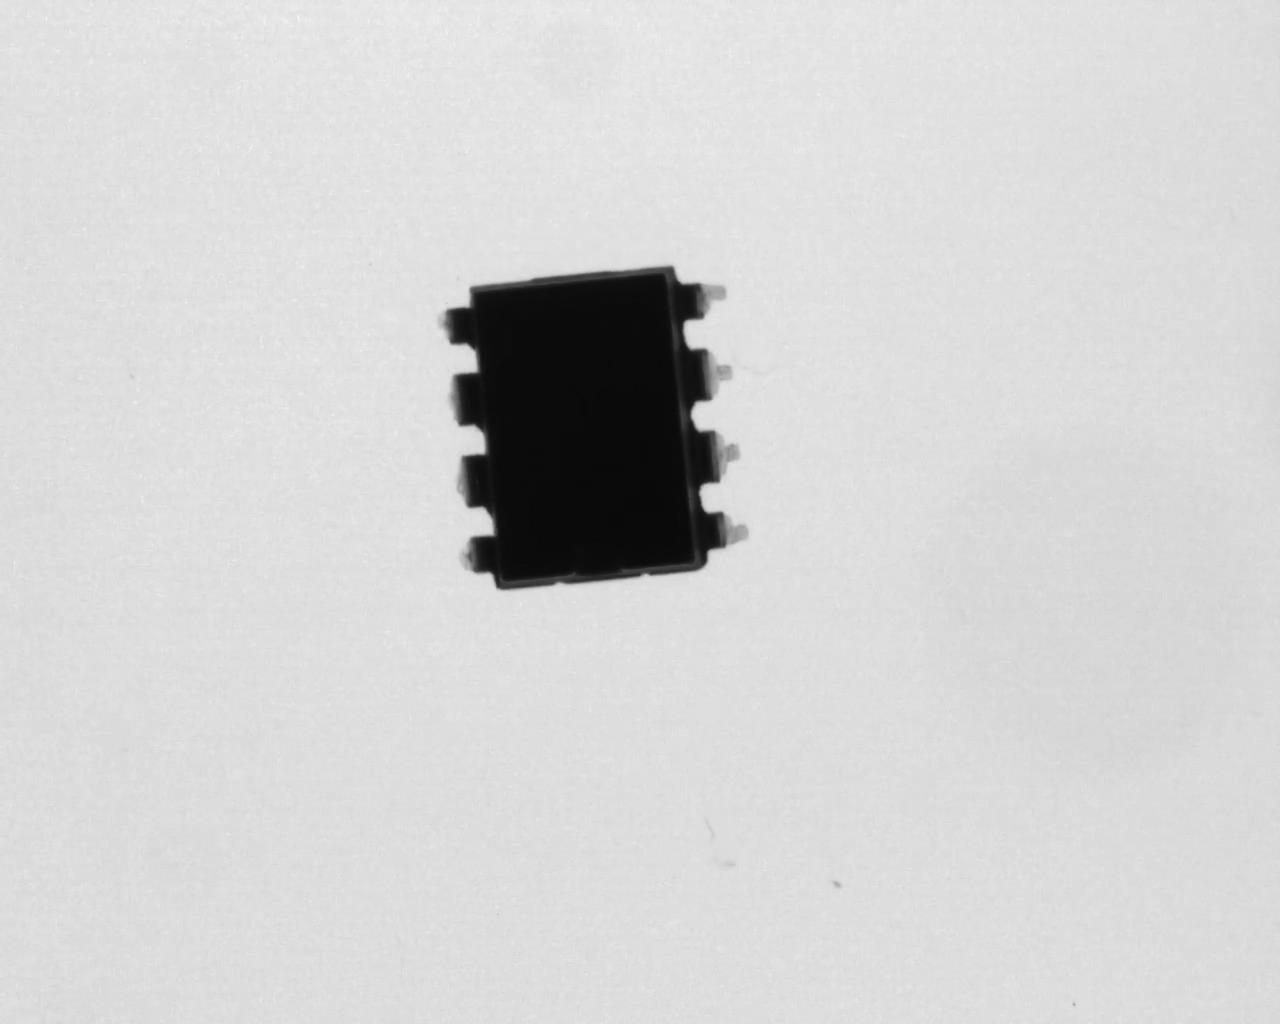Leg: (676, 344, 738, 417), (688, 423, 746, 487), (408, 304, 483, 349), (699, 506, 759, 560), (446, 444, 490, 516), (672, 280, 739, 326), (450, 534, 509, 579), (442, 373, 486, 432)
